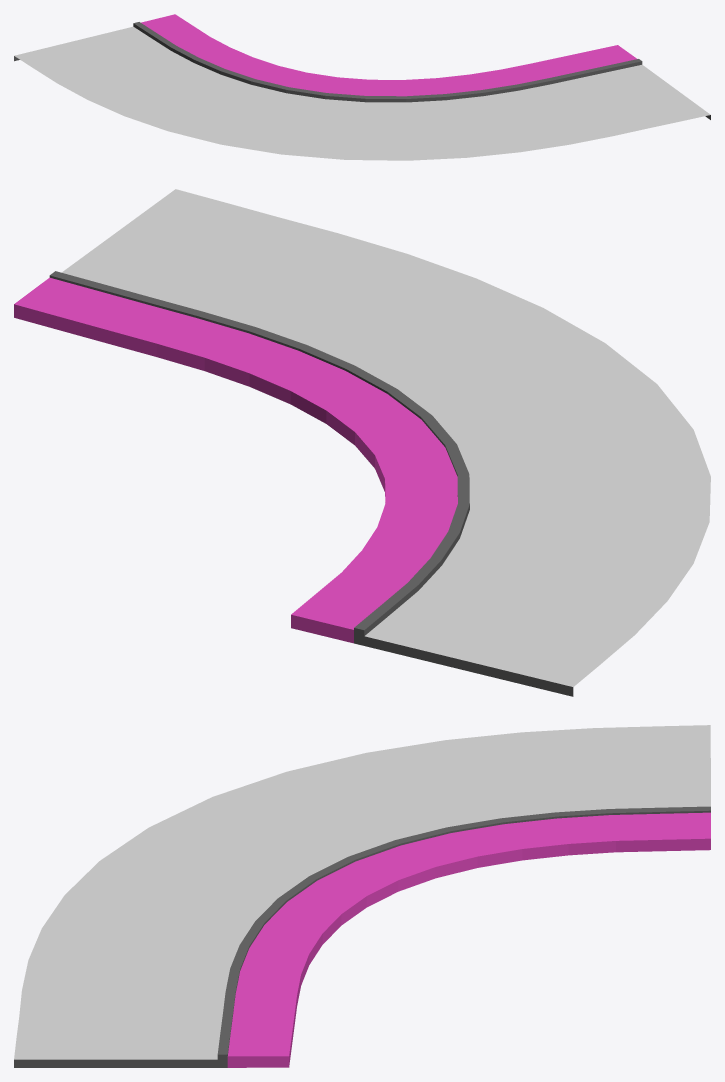
3 views of the same model, one above another, from view 1: azimuth 30°, elevation 25°; view 2: azimuth 150°, elevation 25°; view 3: azimuth 270°, elevation 25° (orthographic). The views are drawn at different scales.
Parts seen in each view (by area): view 1: Cube.001; view 2: Cube.001; view 3: Cube.001.
Part boxes in pixels (left/top/right/bottom): Cube.001: left=14, top=14, right=710, bottom=160; Cube.001: left=14, top=189, right=710, bottom=696; Cube.001: left=14, top=725, right=710, bottom=1067.
Size of the model in its own units: 33273 by 617 by 29296.
